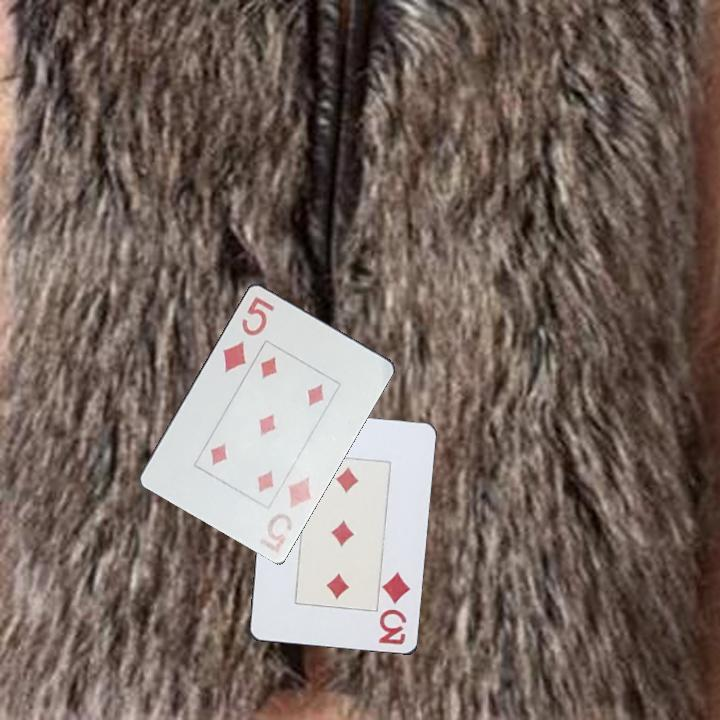3d: (375, 569, 414, 648)
5d: (219, 292, 277, 375), (263, 472, 314, 545)
